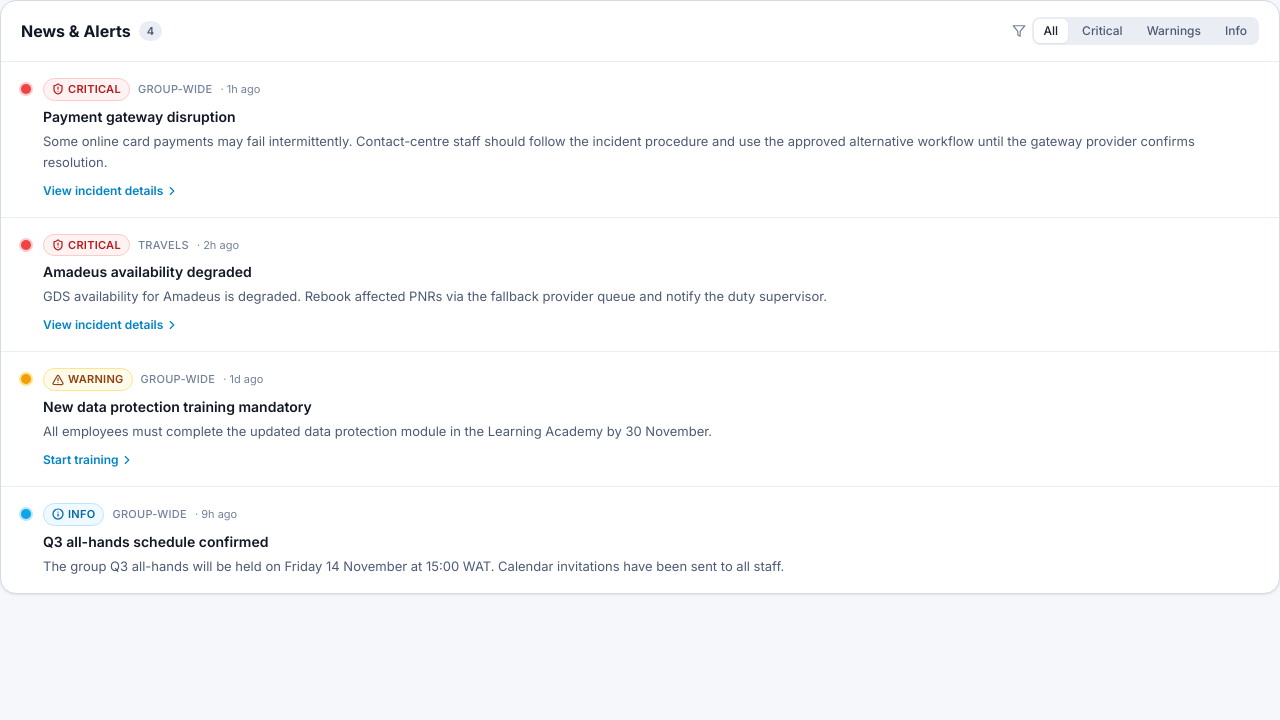
Test case: NewsFeed › filters to critical-only items when the Critical filter is clicked
The width and height of the screenshot is (1280, 720).
Click the button "Critical" at (1102, 31), box [1072, 19, 1133, 43]
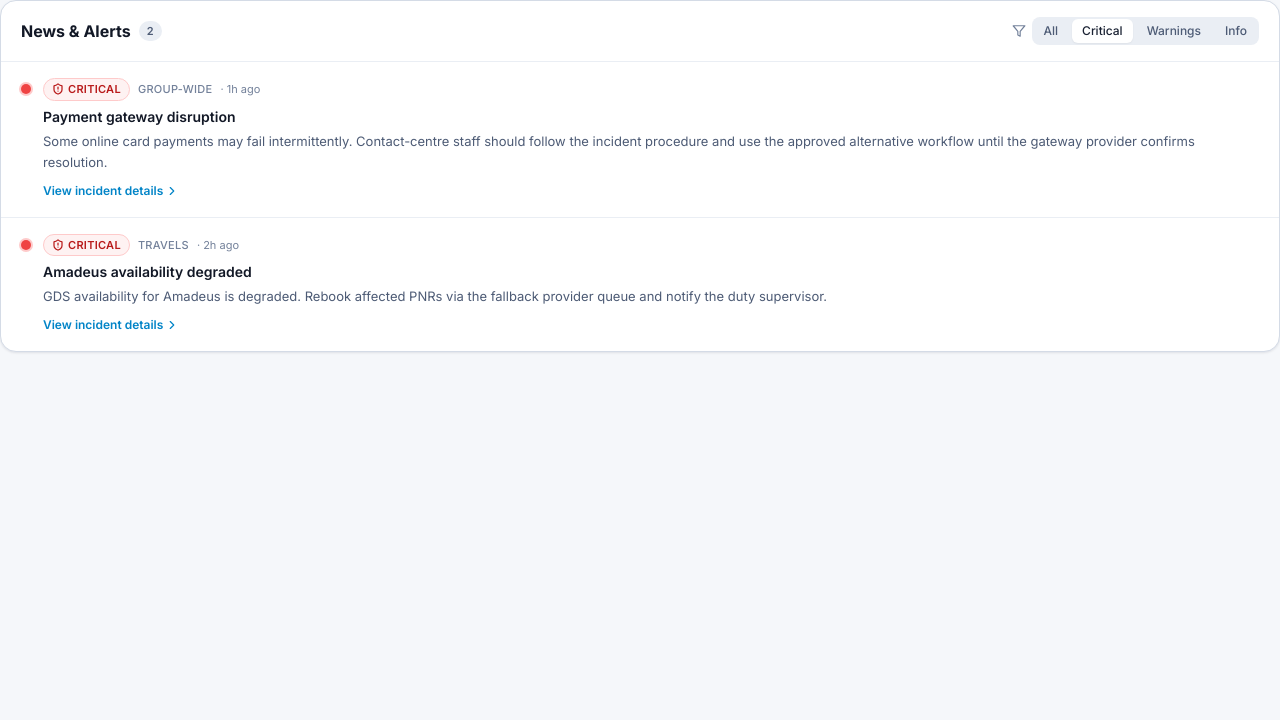
Expected: the heading "Payment gateway disruption" is shown, [43, 108, 236, 124]
Now the heading "Q3 all-hands schedule confirmed" is gone
Now the heading "New data protection training mandatory" is gone
